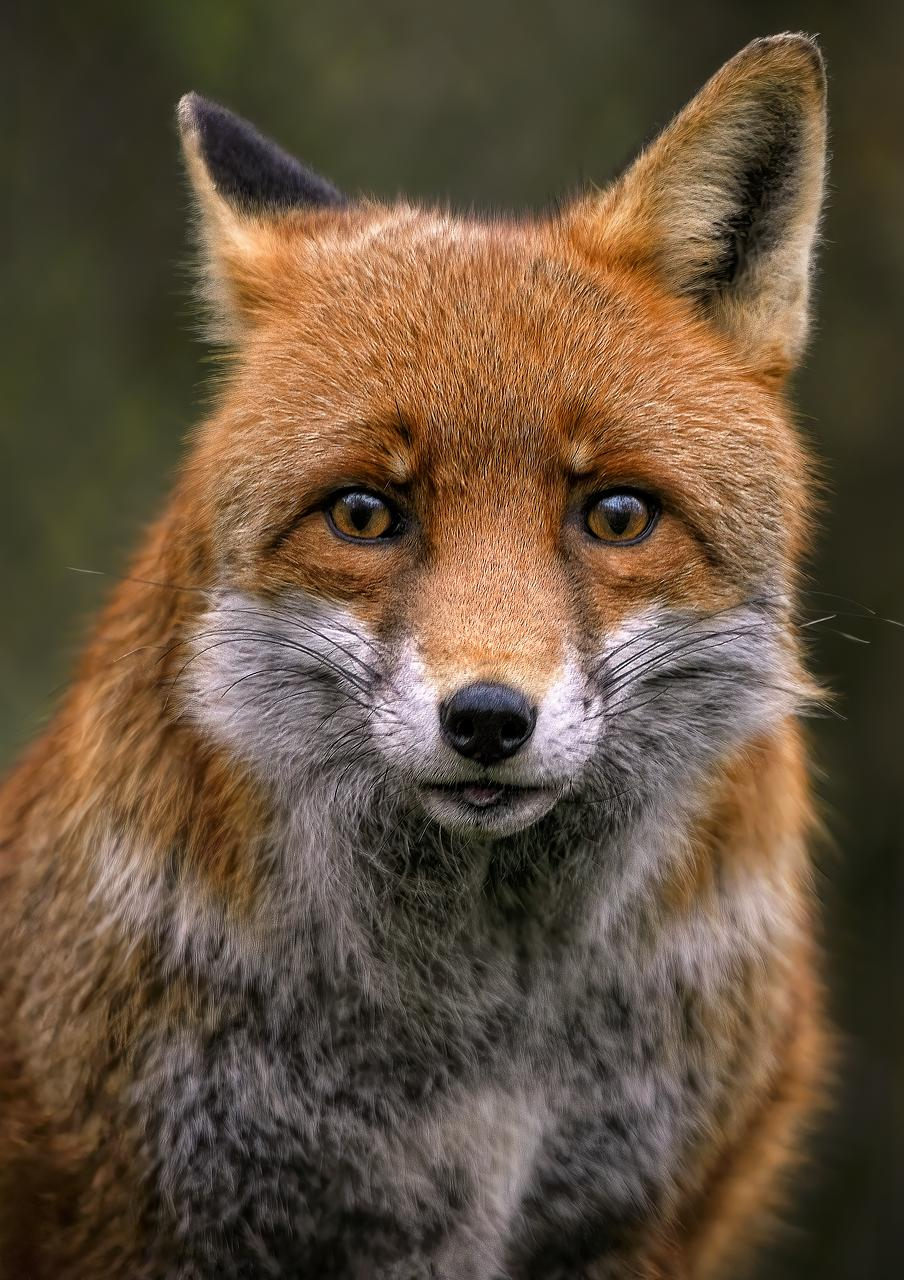fox: (0, 22, 869, 1280)
